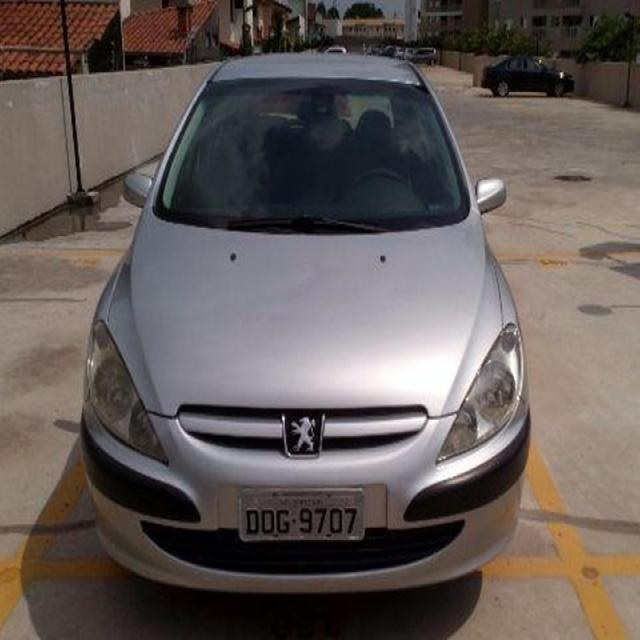Placa: (235, 485, 369, 547)
